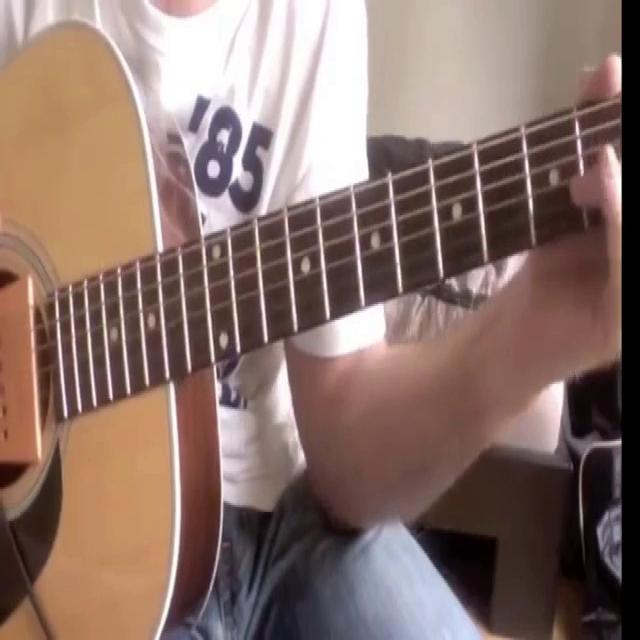Guitar: (0, 28, 627, 633)
